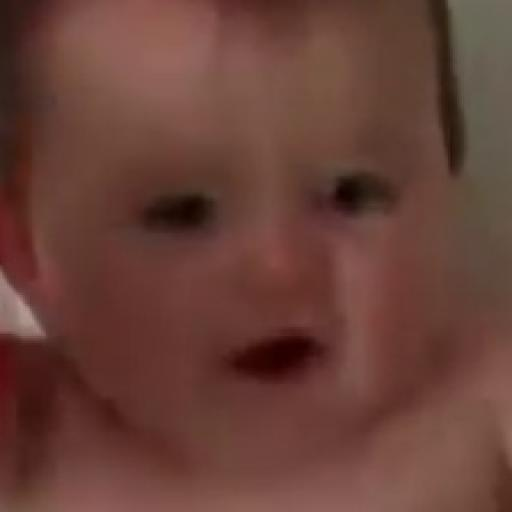Autism: (18, 8, 464, 450)
